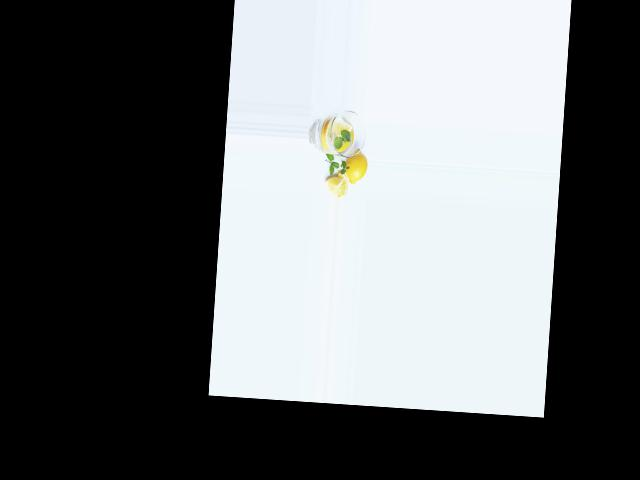lemon: (340, 145, 369, 184)
